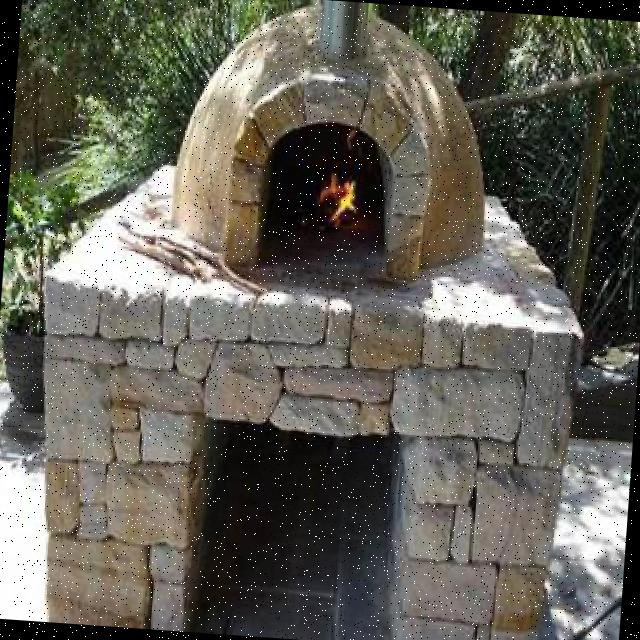fire: (317, 172, 378, 230)
